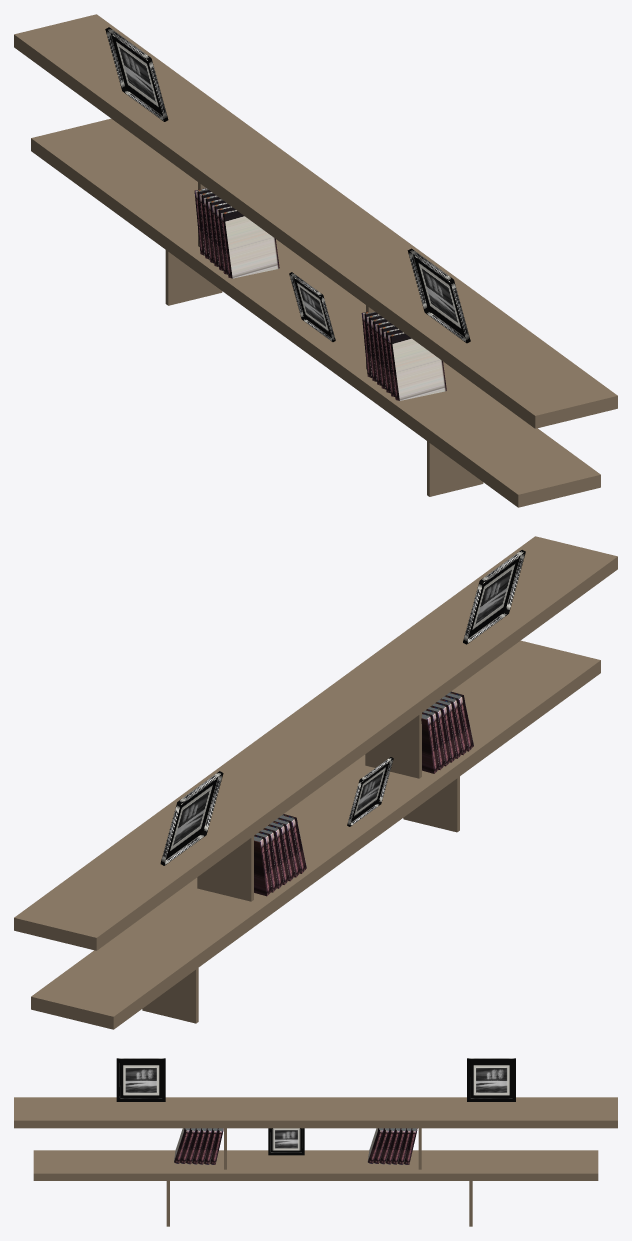
Rendered from lcd-table.obj.
The picture shows the model from 3 angles, top to bottom: view 1: azimuth 30°, elevation 25°; view 2: azimuth 150°, elevation 25°; view 3: azimuth 270°, elevation 25°; orthographic projection. The views are drawn at different scales.
Parts seen in each view (by area): view 1: polySurface250, polySurface248, polySurface249, polySurface234, polySurface236, polySurface239, polySurface238, polySurface237, polySurface235; view 2: polySurface250, polySurface248, polySurface249, polySurface234, polySurface236, polySurface239, polySurface238, polySurface237, polySurface235; view 3: polySurface250, polySurface234, polySurface236, polySurface248, polySurface249, polySurface237, polySurface239, polySurface238, polySurface235.
Boxes of the visible parts, left/top/right/bottom form: polySurface250: left=14, top=14, right=617, bottom=507; polySurface248: left=194, top=188, right=279, bottom=278; polySurface249: left=361, top=311, right=446, bottom=400; polySurface234: left=112, top=35, right=161, bottom=112; polySurface236: left=415, top=257, right=464, bottom=333; polySurface239: left=407, top=248, right=470, bottom=343; polySurface238: left=105, top=27, right=168, bottom=121; polySurface237: left=294, top=278, right=330, bottom=335; polySurface235: left=289, top=272, right=335, bottom=341; polySurface250: left=14, top=536, right=617, bottom=1029; polySurface248: left=254, top=814, right=306, bottom=896; polySurface249: left=421, top=691, right=474, bottom=773; polySurface234: left=167, top=779, right=216, bottom=856; polySurface236: left=469, top=558, right=518, bottom=635; polySurface239: left=463, top=550, right=525, bottom=644; polySurface238: left=160, top=771, right=223, bottom=865; polySurface237: left=352, top=763, right=388, bottom=819; polySurface235: left=347, top=757, right=393, bottom=826; polySurface250: left=14, top=1097, right=617, bottom=1226; polySurface234: left=470, top=1062, right=512, bottom=1098; polySurface236: left=120, top=1062, right=162, bottom=1098; polySurface248: left=367, top=1128, right=417, bottom=1164; polySurface249: left=174, top=1128, right=223, bottom=1164; polySurface237: left=271, top=1128, right=301, bottom=1152; polySurface239: left=116, top=1058, right=165, bottom=1101; polySurface238: left=467, top=1058, right=515, bottom=1101; polySurface235: left=268, top=1128, right=304, bottom=1155.
Bounding box in the file's own units: 0.2844 × 0.8335 × 3.1.
3 materials, 2 textured.
